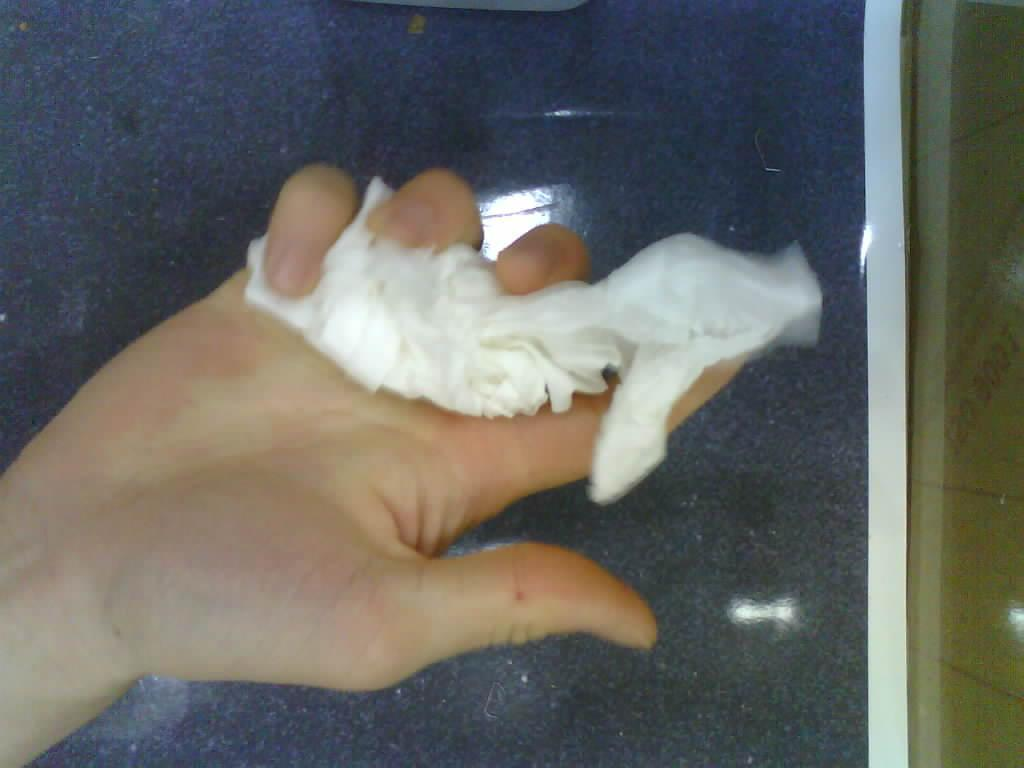paper: (248, 178, 822, 515)
